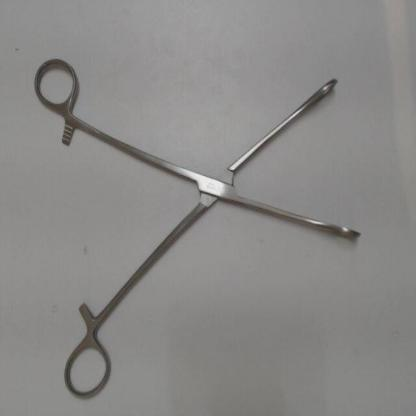Sponge Forceps: (28, 51, 370, 406)
